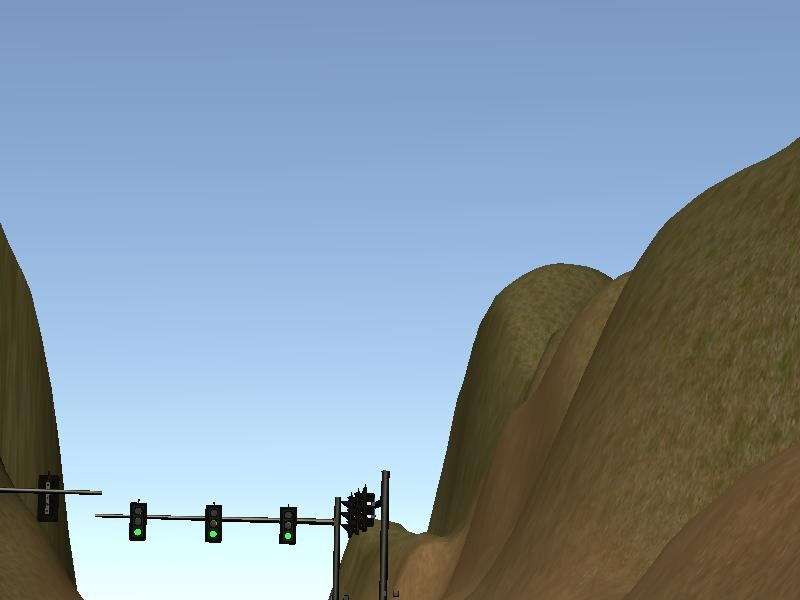green: (128, 502, 147, 540), (278, 507, 296, 547), (206, 505, 221, 542)
